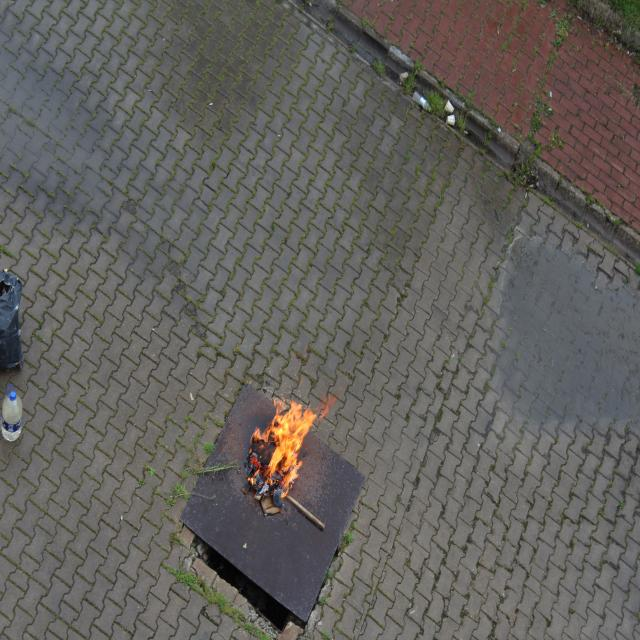fire: (238, 386, 337, 506)
